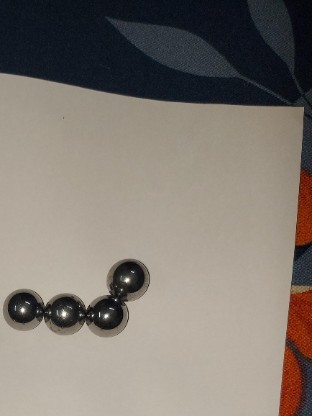ironball: (0, 283, 45, 334), (40, 288, 87, 336), (106, 257, 150, 299), (84, 297, 129, 338)
